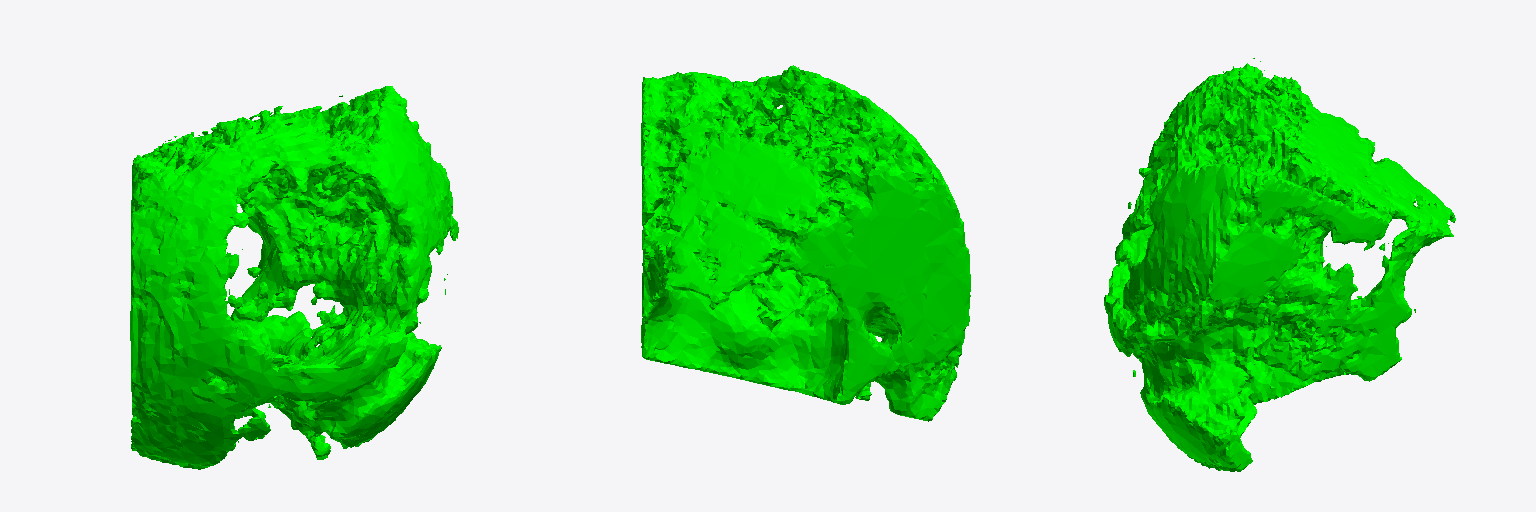
File: B939XXXX-1_base_24.obj
3 renders of one model, left to right at view 1: azimuth 30°, elevation 25°; view 2: azimuth 150°, elevation 25°; view 3: azimuth 270°, elevation 25°, orthographic.
Visible parts, largest first — view 1: 24_base; view 2: 24_base; view 3: 24_base.
Part boxes in pixels (x1,y1,x2,y2): 24_base: (130, 86, 458, 469); 24_base: (641, 65, 970, 421); 24_base: (1104, 58, 1455, 471).
Size of the model in its own units: 220 by 218 by 204.